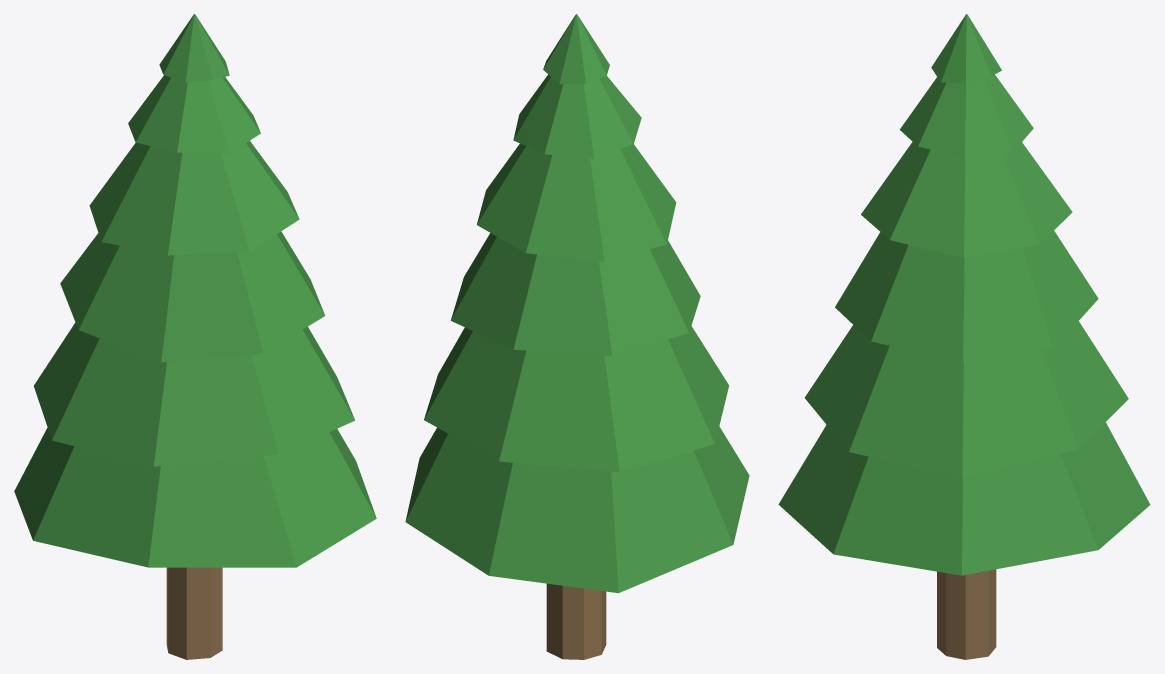
Rendered from Evergreen_Tree_Asymmetrical.fbx.
The picture shows the model from 3 angles, left to right: view 1: azimuth 30°, elevation 25°; view 2: azimuth 150°, elevation 25°; view 3: azimuth 270°, elevation 25°; orthographic projection.
Visible parts, largest first — view 1: Evergreen_tree_Asymmetrical; view 2: Evergreen_tree_Asymmetrical; view 3: Evergreen_tree_Asymmetrical.
Boxes of the visible parts, box(x1,y1,x2,y2) form: Evergreen_tree_Asymmetrical: box(14, 14, 376, 659); Evergreen_tree_Asymmetrical: box(405, 14, 749, 659); Evergreen_tree_Asymmetrical: box(778, 14, 1150, 659).
Size of the model in its own units: 8.29 by 15.75 by 8.39.
